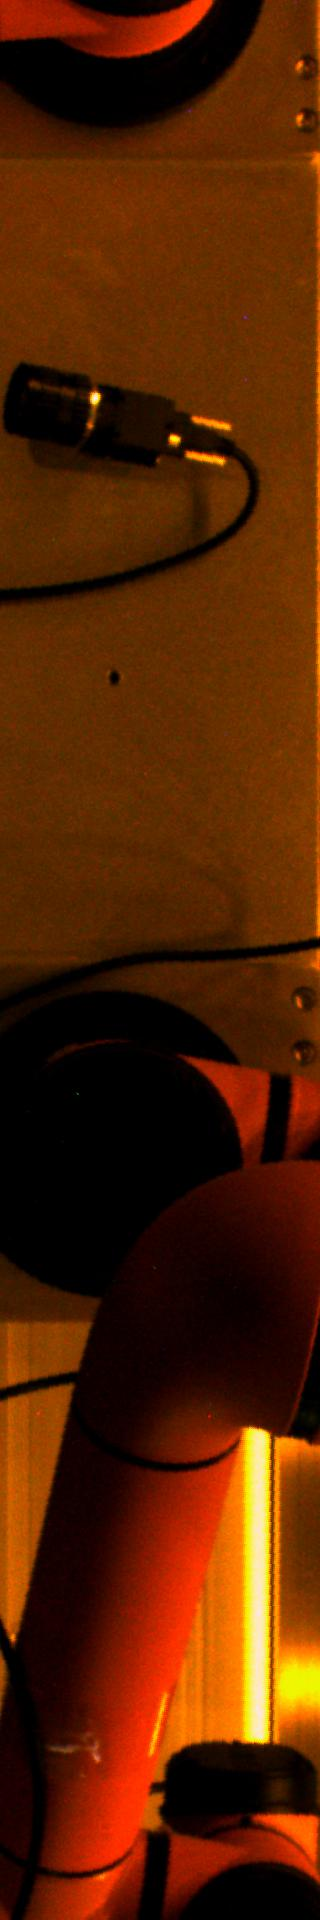keyPoint_2: (98, 662, 128, 693)
